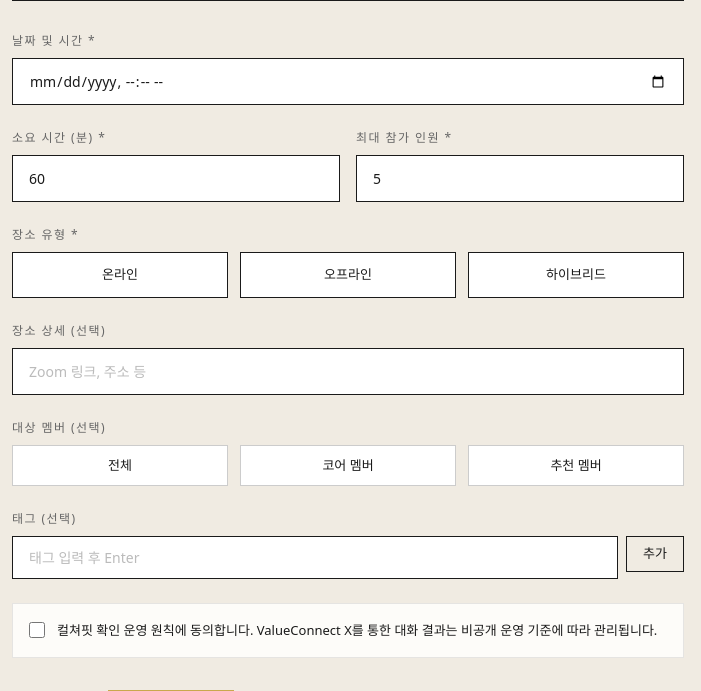
it: SessionForm › adds tag via Enter key press
This screenshot has width=701, height=691.
(page scrolled)
Step 1. Type "스타트업" into the field with placeholder "태그 입력 후 Enter" → (315, 558), box [12,536,618,579]
Then press Enter
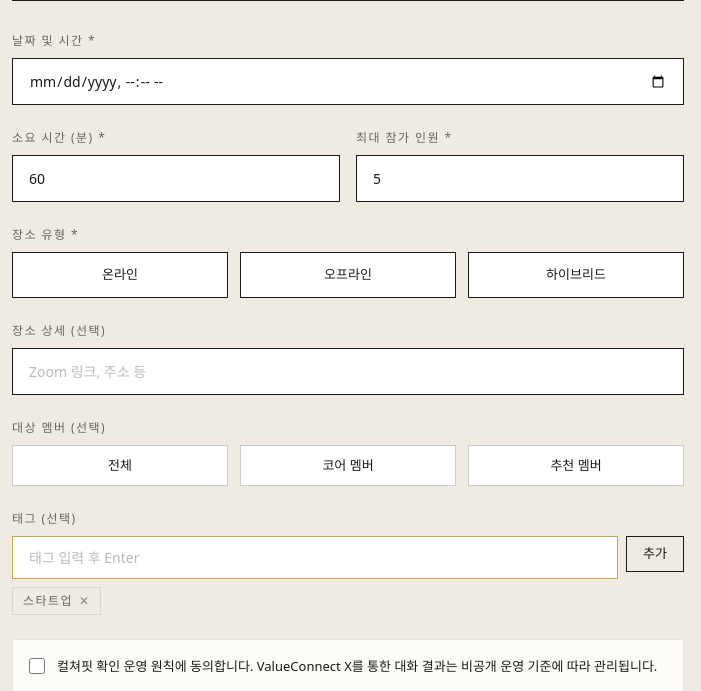
Expected: the text "스타트업" is shown, [23,592,73,609]
